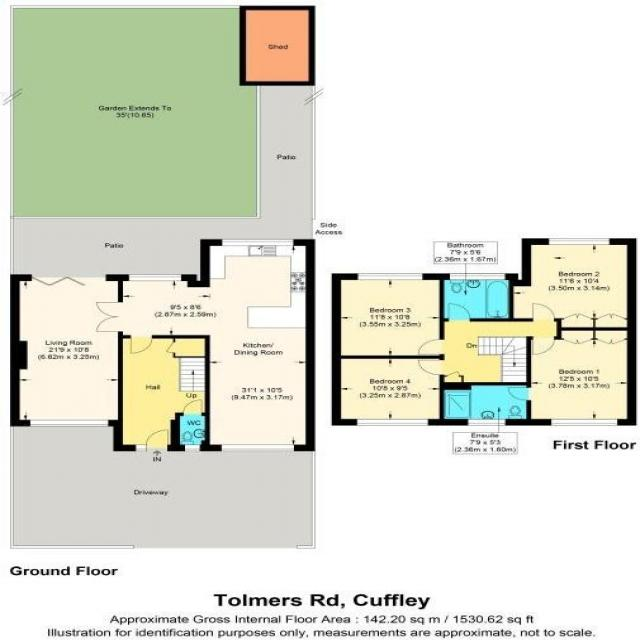DOOR: (414, 358, 446, 376), (145, 429, 170, 451), (128, 334, 155, 354), (417, 338, 445, 355), (532, 301, 556, 320), (530, 336, 555, 354)
DOUBLE DOOR: (94, 301, 123, 333)
FOLDING DOOR: (30, 274, 107, 291)
ROOM: (95, 239, 316, 452), (508, 237, 636, 330), (525, 327, 638, 426), (331, 273, 445, 359), (330, 355, 445, 426)
WINDOW: (356, 418, 429, 427), (28, 419, 109, 427), (219, 444, 296, 452), (219, 238, 295, 246), (355, 272, 424, 280), (549, 419, 618, 427), (547, 238, 610, 246), (127, 273, 182, 282), (448, 272, 507, 280), (466, 419, 507, 426)
